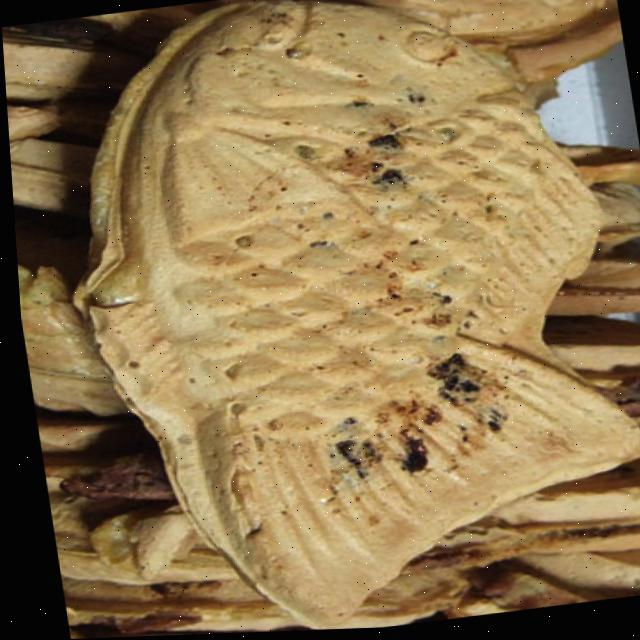熟制海鲜: (29, 0, 640, 639)
